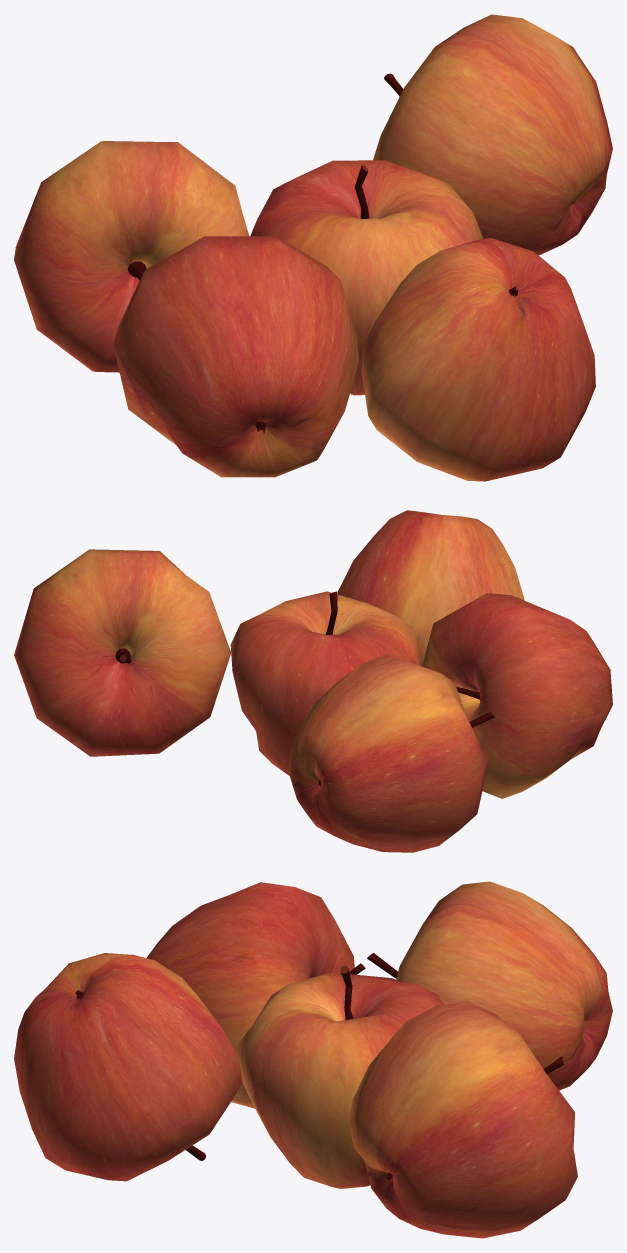
The model's file is apples.fbx.
3 views of the same model, one above another, from view 1: azimuth 30°, elevation 25°; view 2: azimuth 150°, elevation 25°; view 3: azimuth 270°, elevation 25° (orthographic). The views are drawn at different scales.
Parts seen in each view (by area): view 1: pSphere4, pSphere6, pSphere7, pSphere5, pSphere3; view 2: pSphere7, pSphere5, pSphere4, pSphere3, pSphere6; view 3: pSphere7, pSphere6, pSphere5, pSphere3, pSphere4.
Part boxes in pixels (bbox=[...]): pSphere4: bbox=[113, 236, 358, 477]; pSphere6: bbox=[361, 238, 595, 481]; pSphere7: bbox=[373, 14, 612, 255]; pSphere5: bbox=[14, 141, 248, 372]; pSphere3: bbox=[250, 160, 483, 395]; pSphere7: bbox=[14, 549, 230, 756]; pSphere5: bbox=[288, 654, 494, 852]; pSphere4: bbox=[422, 593, 612, 798]; pSphere3: bbox=[230, 591, 420, 775]; pSphere6: bbox=[337, 510, 524, 666]; pSphere7: bbox=[349, 1001, 577, 1238]; pSphere6: bbox=[14, 953, 242, 1181]; pSphere5: bbox=[367, 881, 612, 1090]; pSphere3: bbox=[236, 965, 443, 1188]; pSphere4: bbox=[147, 882, 365, 1108].
Bounding box in the file's own units: 9.06 × 4 × 8.77.
Materials: 2 (2 with a texture image).
